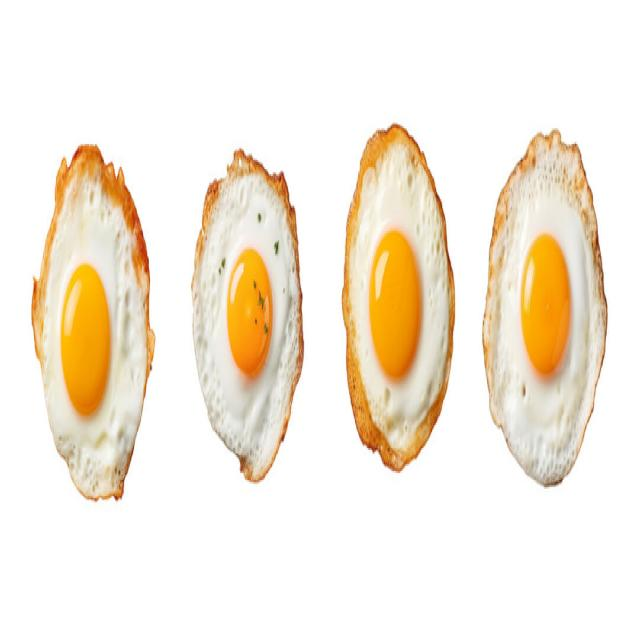Egg: (31, 146, 155, 499), (482, 131, 606, 484), (341, 124, 455, 467), (191, 150, 304, 480)
